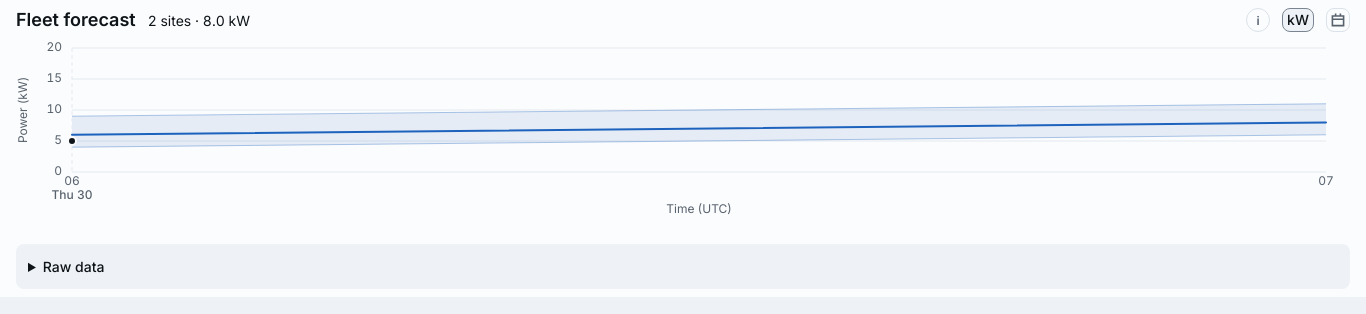
Scenario: FleetPanel’s unit toggle › says which unit is showing and what a press would do, in both units
The width and height of the screenshot is (1366, 314).
Click the button "kW": [1298, 20] box [1282,8,1314,32]
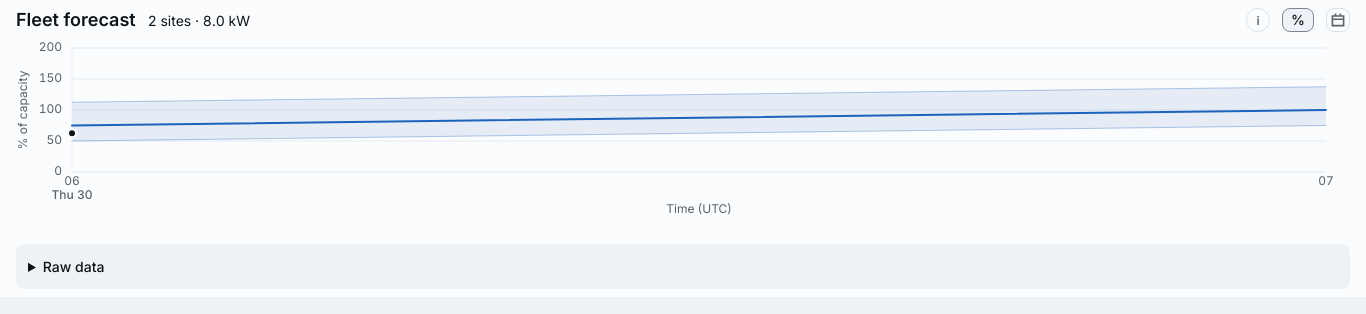
Expected: the button named "Chart unit:" reads "%", [1282,8,1314,32]
